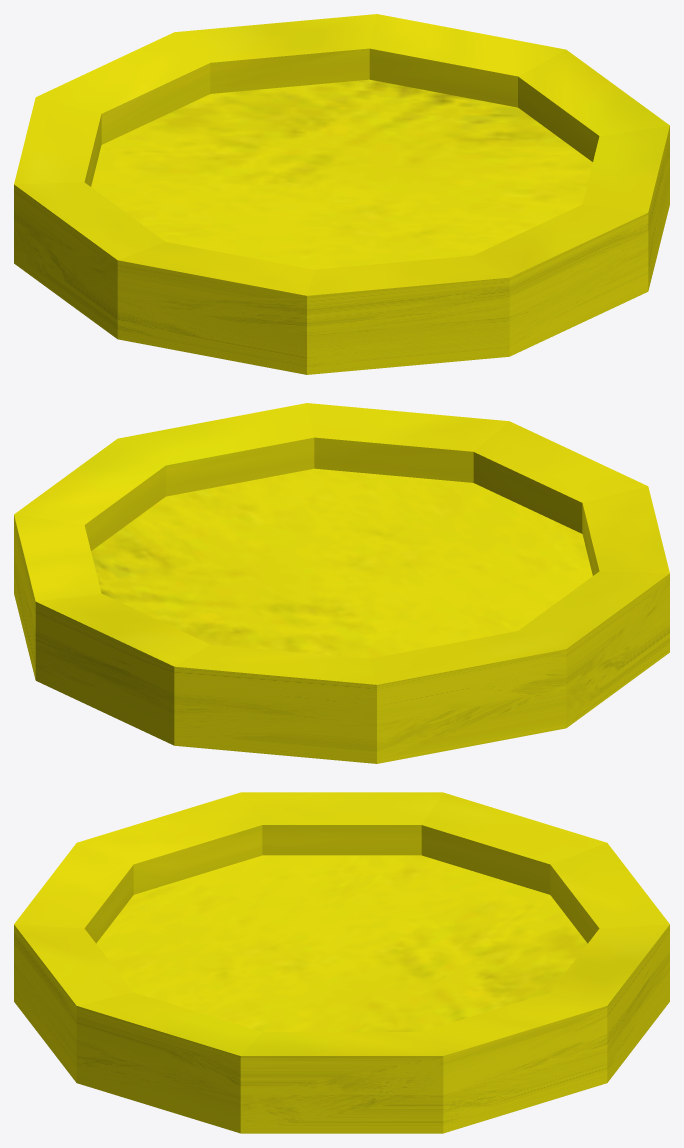
The model's file is oCoin.fbx.
3 renders of one model, top to bottom at view 1: azimuth 30°, elevation 25°; view 2: azimuth 150°, elevation 25°; view 3: azimuth 270°, elevation 25°, orthographic. The views are drawn at different scales.
Parts seen in each view (by area): view 1: Cylinder.001; view 2: Cylinder.001; view 3: Cylinder.001.
Part boxes in pixels (box(x1,y1,x2,y2)): Cylinder.001: box(14, 14, 669, 374); Cylinder.001: box(14, 403, 669, 763); Cylinder.001: box(14, 792, 669, 1133).
Bounding box in the file's own units: 74.89 × 10.25 × 78.74.
